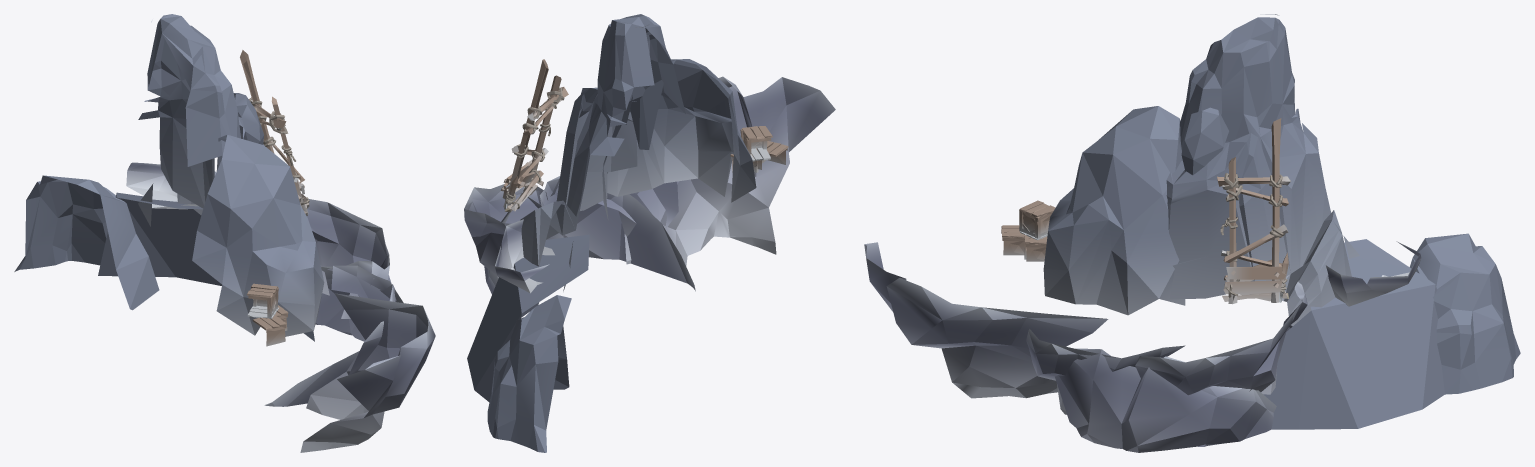
The model's file is Terrain_Stage2_Mountain_8.fbx.
3 renders of one model, left to right at view 1: azimuth 30°, elevation 25°; view 2: azimuth 150°, elevation 25°; view 3: azimuth 270°, elevation 25°, orthographic. The views are drawn at different scales.
Parts seen in each view (by area): view 1: terrain_mountain_402_02_LOD0; view 2: terrain_mountain_402_02_LOD0; view 3: terrain_mountain_402_02_LOD0.
Part boxes in pixels (<box>): terrain_mountain_402_02_LOD0: <box>14,14,435,452</box>; terrain_mountain_402_02_LOD0: <box>464,14,835,452</box>; terrain_mountain_402_02_LOD0: <box>864,14,1520,452</box>.
Size of the model in its own units: 389 by 531 by 905.
Materials: 1 (1 with a texture image).
